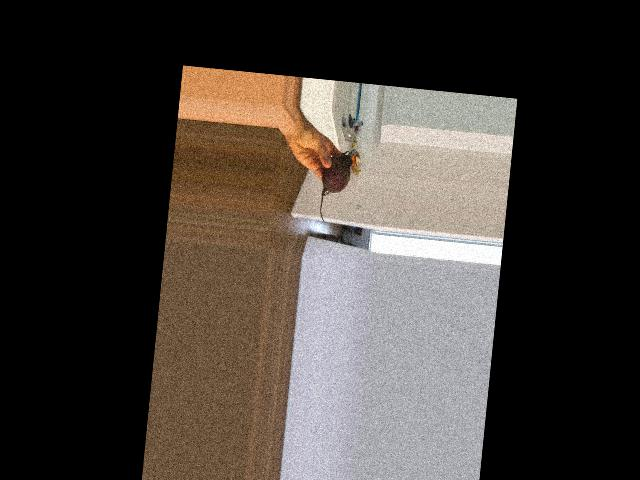beet: (317, 149, 353, 225)
